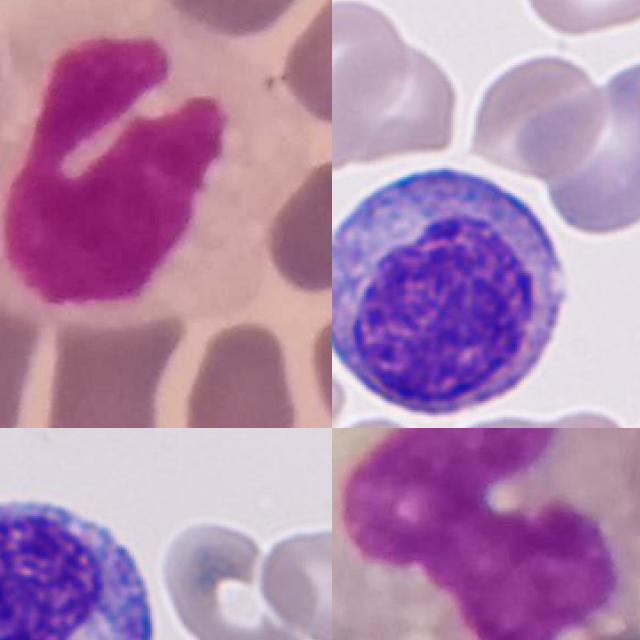Lymphocyte: (332, 157, 582, 428), (0, 484, 167, 640)
Monocyte: (0, 0, 298, 327), (332, 428, 640, 640)
RBC: (155, 511, 324, 640), (531, 52, 640, 237), (467, 49, 611, 182), (332, 33, 463, 168), (332, 0, 413, 175), (255, 518, 332, 640), (513, 0, 640, 40)
